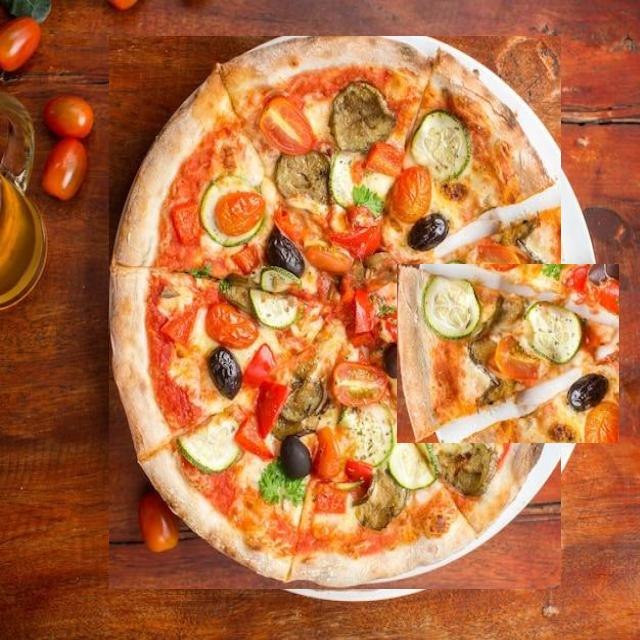olive: (207, 224, 242, 280), (385, 246, 428, 287), (268, 347, 304, 390), (280, 145, 312, 190), (409, 374, 448, 410)
pizza: (109, 36, 561, 589), (397, 264, 619, 443)
